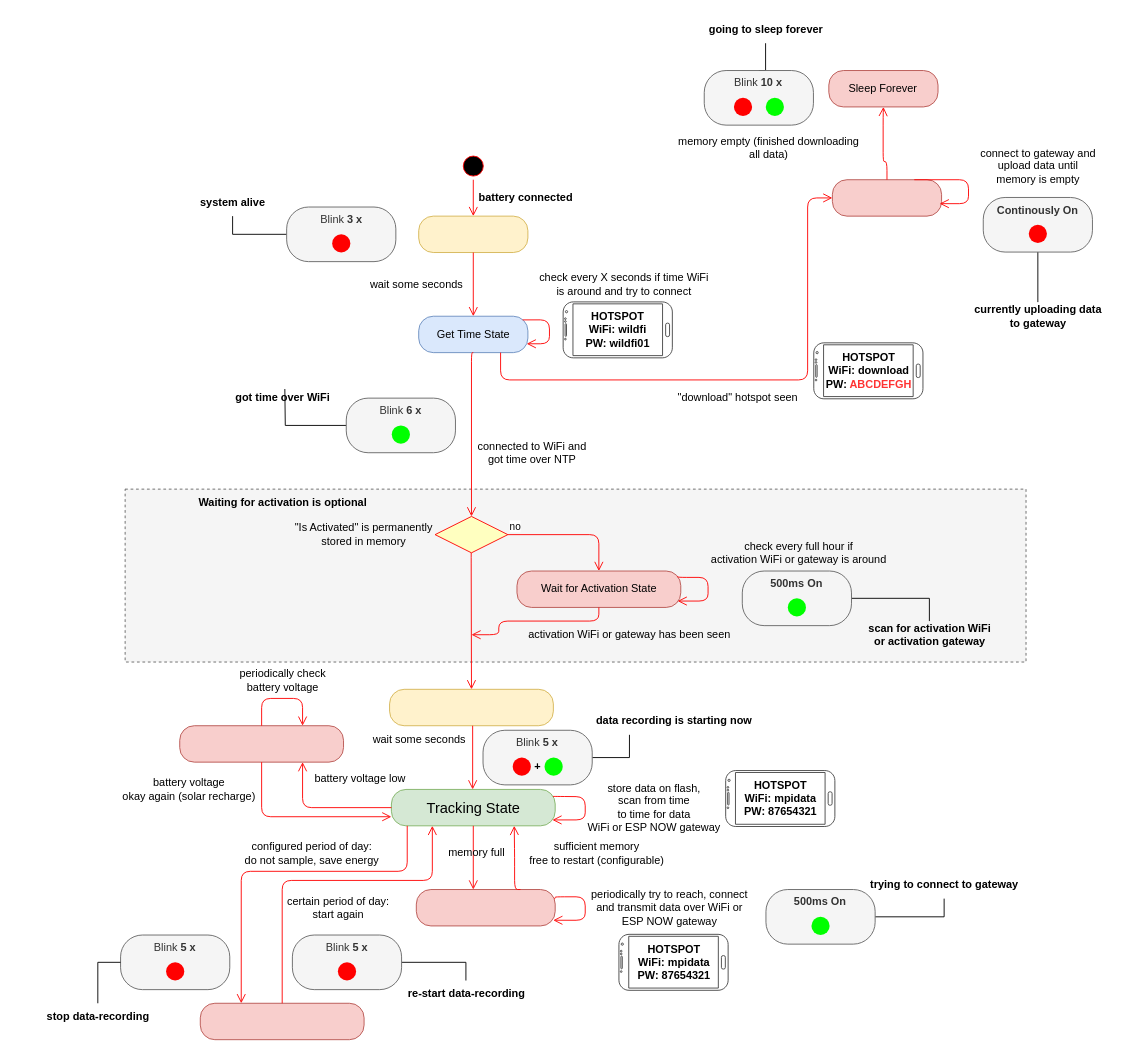
Image size: 1135x1056. Some labels were removed from this diagram. Each missing label, with the centre of its shape:
"Force Download State" goes at pixel 886 197.
"Is Activated" goes at pixel 471 534.
"Memory Full State" goes at pixel 485 907.
"Night-Time State" goes at pixel 281 1021.
"Power Down State" goes at pixel 261 743.
"Reset State" goes at pixel 473 234.
"Start State" goes at pixel 471 707.
